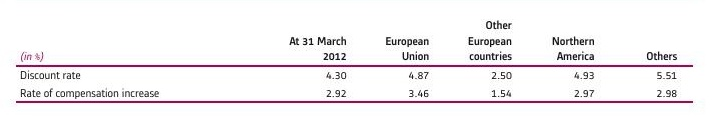table: (0, 0, 712, 120)
